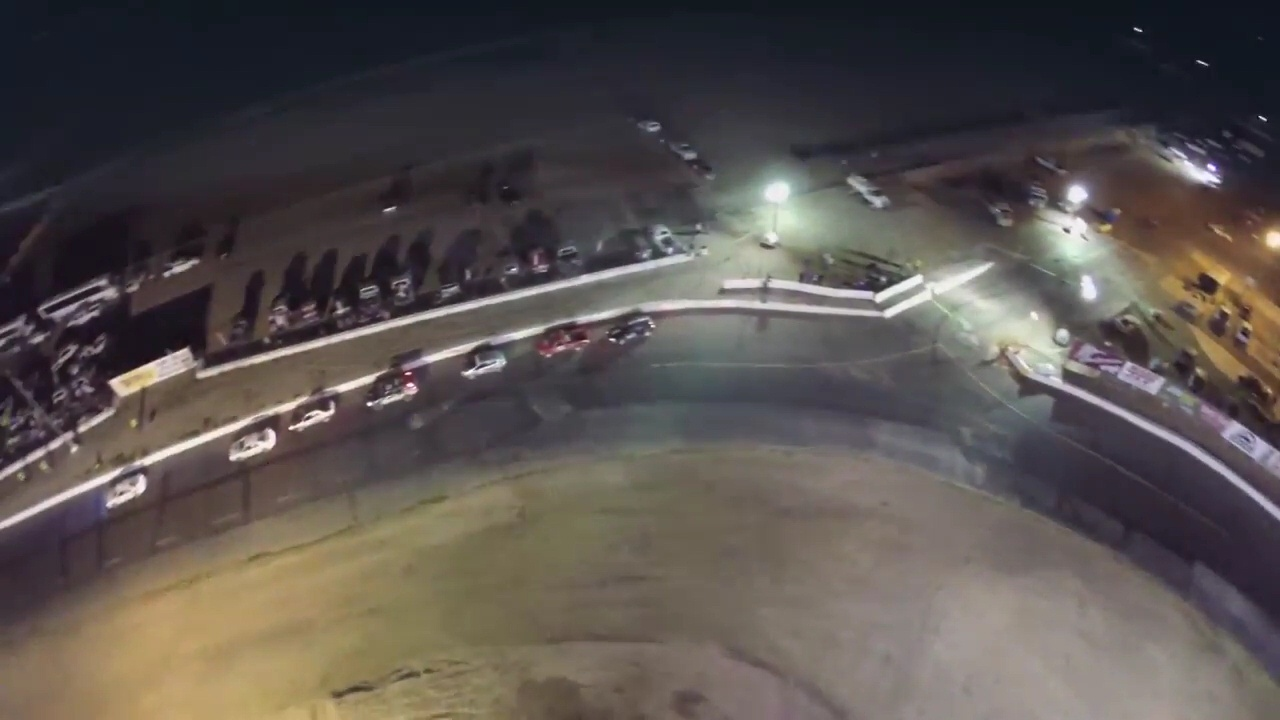araba: (367, 368, 420, 412), (288, 392, 342, 434), (534, 322, 592, 361), (227, 424, 278, 463), (605, 311, 658, 348), (846, 169, 892, 208), (106, 469, 149, 510), (457, 348, 510, 378)
